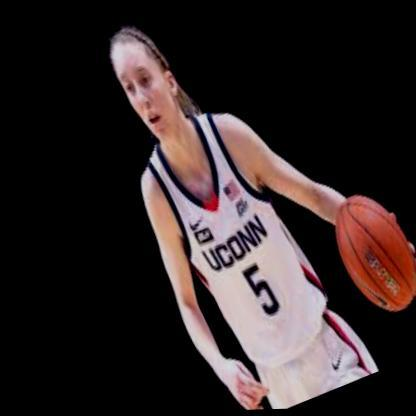basketball: (312, 186, 416, 325)
